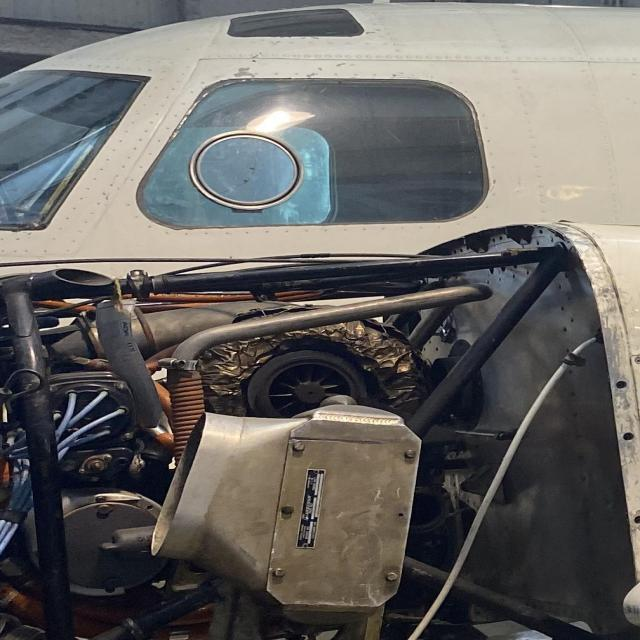Paint-off: (233, 67, 258, 78)
